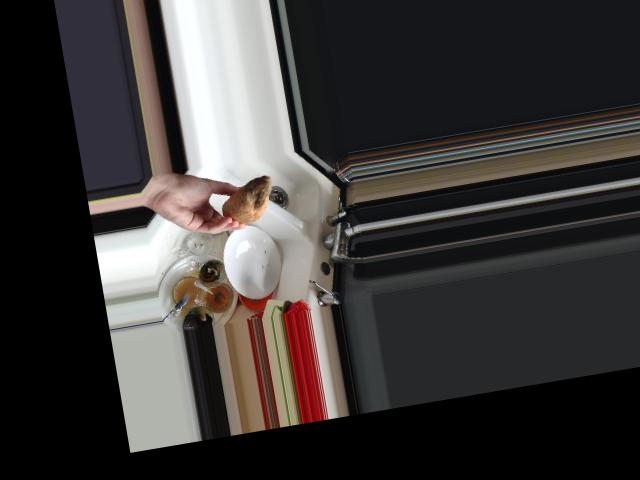sweet_potato: (217, 170, 278, 228)
